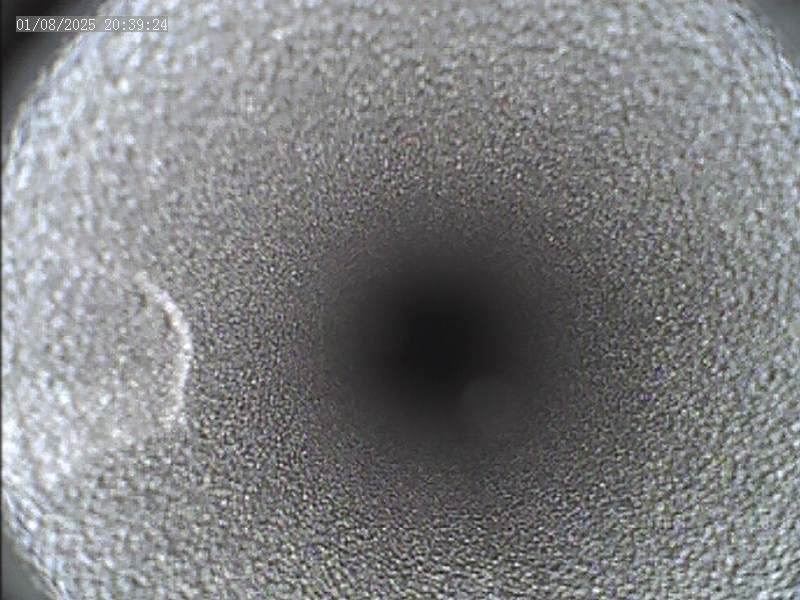defective_area: (127, 267, 196, 420)
